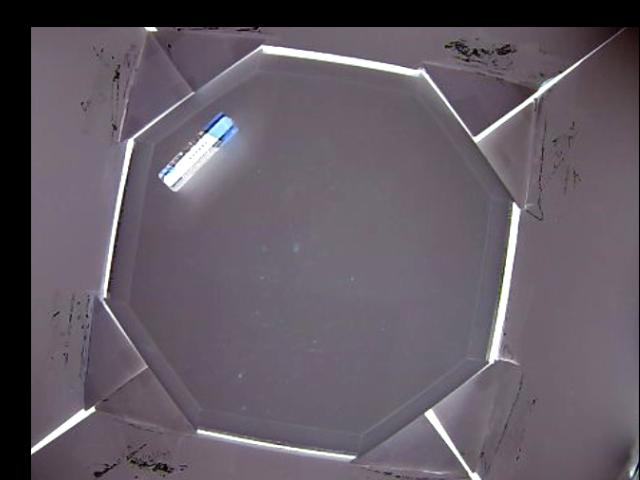Battery: (157, 109, 240, 190)
